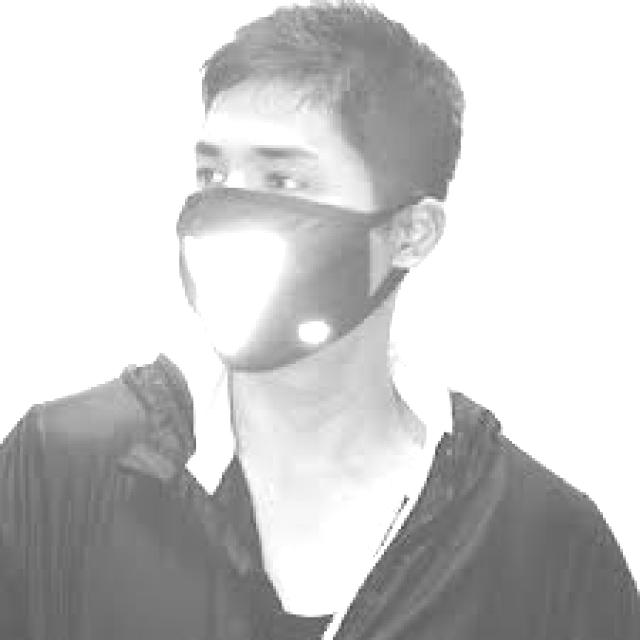fake: (167, 179, 394, 377)
real: (188, 77, 378, 379)
